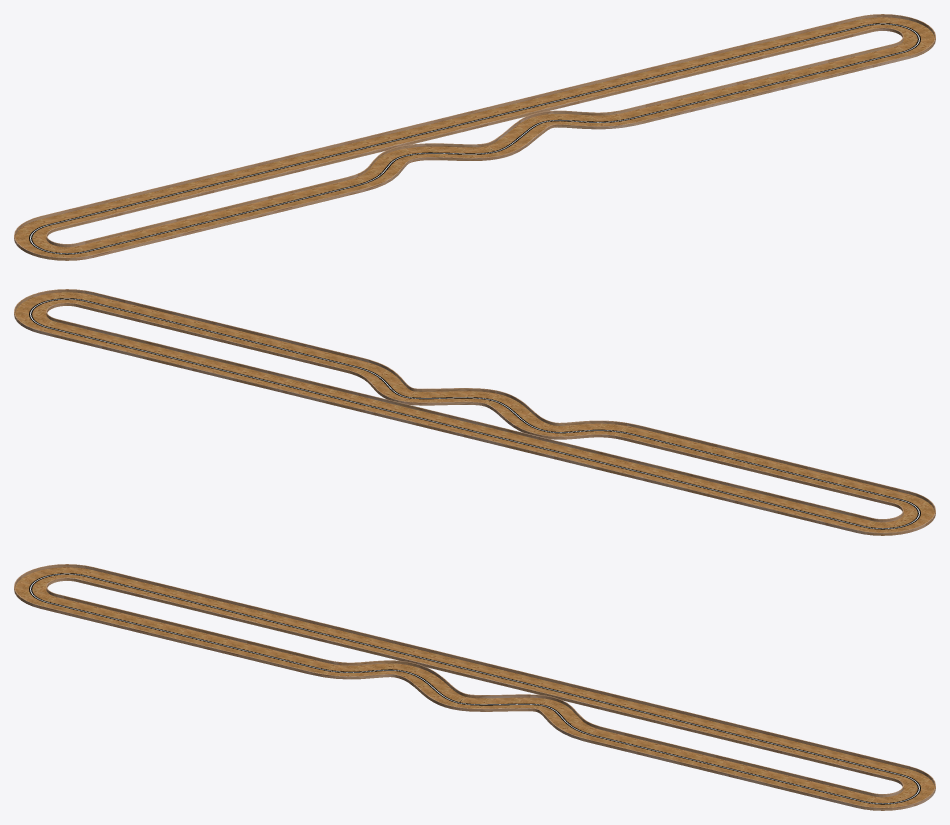
The model's file is circuit.obj.
3 views of the same model, one above another, from view 1: azimuth 30°, elevation 25°; view 2: azimuth 150°, elevation 25°; view 3: azimuth 330°, elevation 25° (orthographic).
Parts seen in each view (by area): view 1: Sol_Track.001, Bordure_Track.000, LigneNoire_Track.004, LigneBlanche_Track.002; view 2: Sol_Track.001, Bordure_Track.000, LigneNoire_Track.004, LigneBlanche_Track.002; view 3: Sol_Track.001, Bordure_Track.000, LigneNoire_Track.004, LigneBlanche_Track.002.
Part boxes in pixels (bbox=[...]): Sol_Track.001: bbox=[15, 17, 934, 257]; Bordure_Track.000: bbox=[14, 14, 935, 260]; LigneNoire_Track.004: bbox=[29, 23, 920, 254]; LigneBlanche_Track.002: bbox=[30, 23, 919, 253]; Sol_Track.001: bbox=[15, 292, 934, 532]; Bordure_Track.000: bbox=[14, 289, 935, 535]; LigneNoire_Track.004: bbox=[29, 298, 920, 529]; LigneBlanche_Track.002: bbox=[30, 298, 919, 528]; Sol_Track.001: bbox=[15, 567, 934, 807]; Bordure_Track.000: bbox=[14, 564, 935, 810]; LigneNoire_Track.004: bbox=[29, 573, 920, 804]; LigneBlanche_Track.002: bbox=[30, 573, 919, 803].
Bounding box in the file's own units: 50.08 × 0.16 × 5.29.
